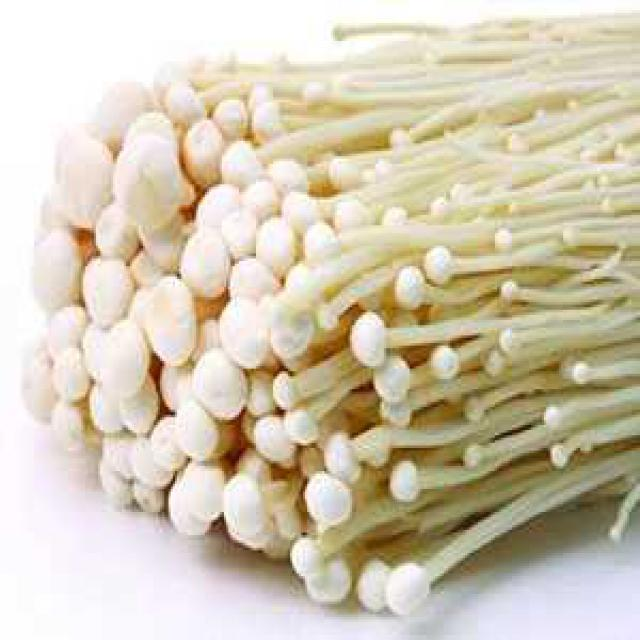Flammulina velutiper: (22, 16, 640, 617)
